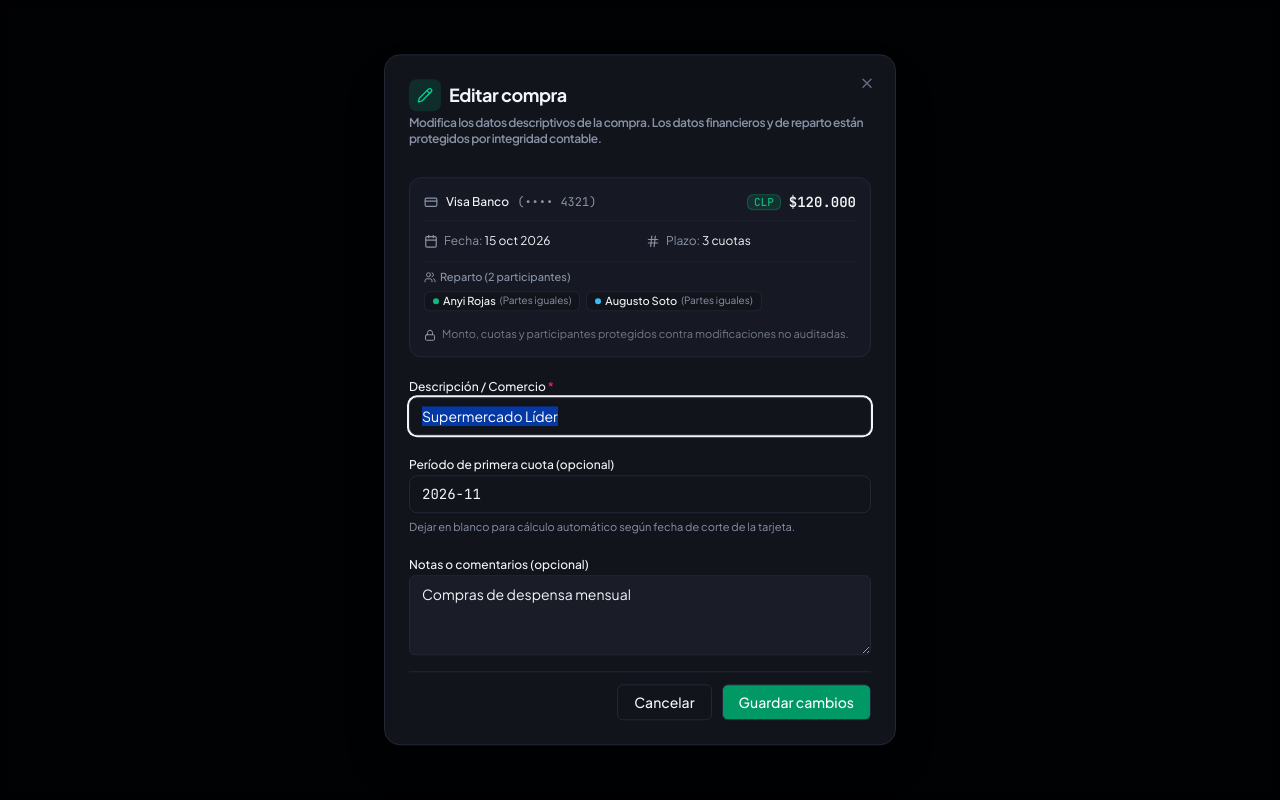
ExpenseEditDialog Component (Spec 005 T6) › mapea errores inline 422 de Pydantic sin cerrar el formulario
Click the button "Guardar cambios" at [796, 703], box [722,685,871,721]
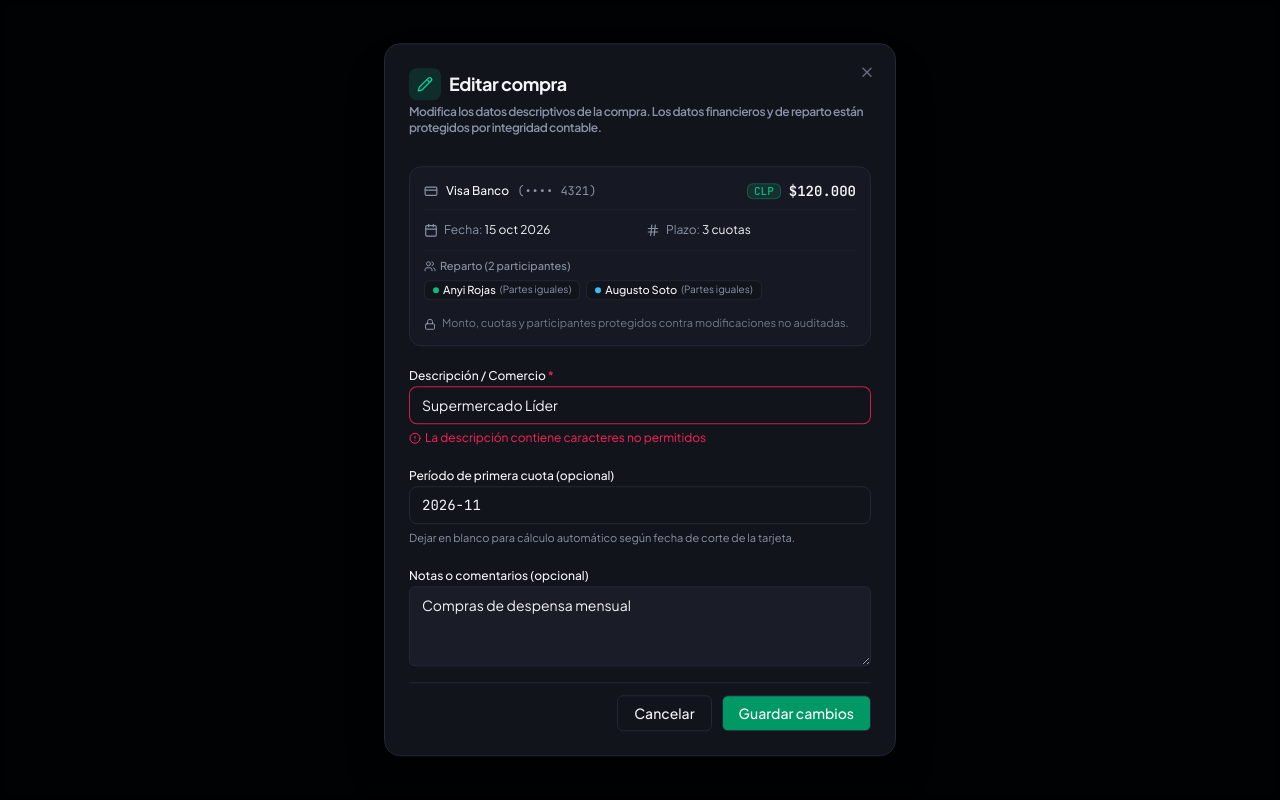
Result: the text "La descripción contiene caracteres no permitidos" is shown at [425,430,706,446]
